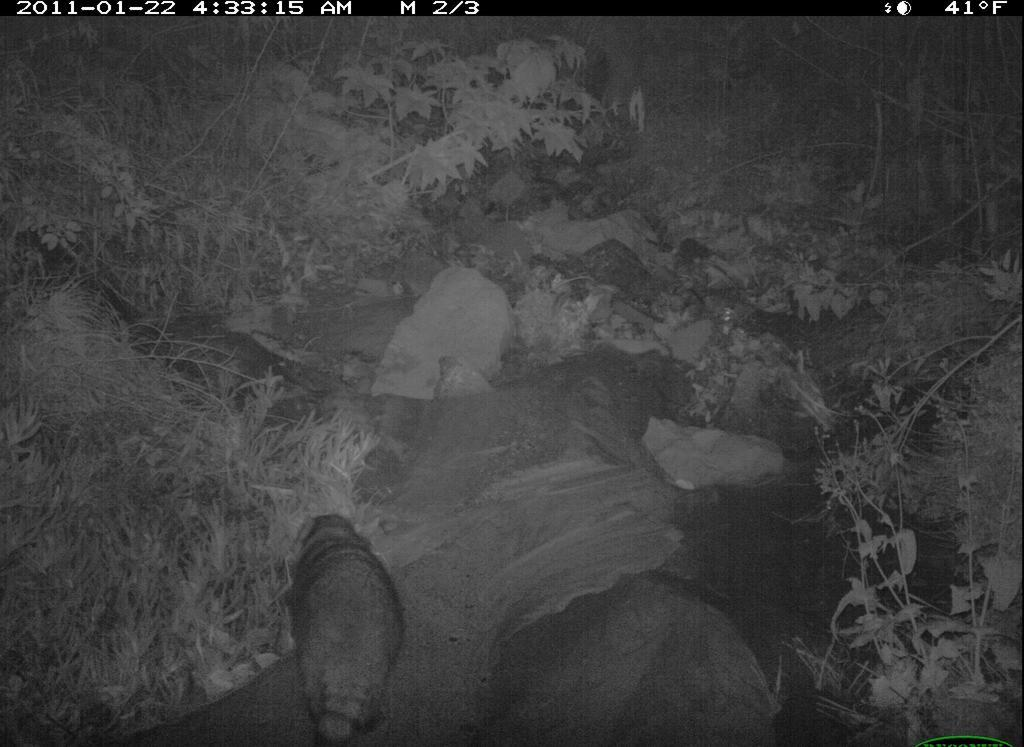raccoon: (263, 497, 417, 747)
